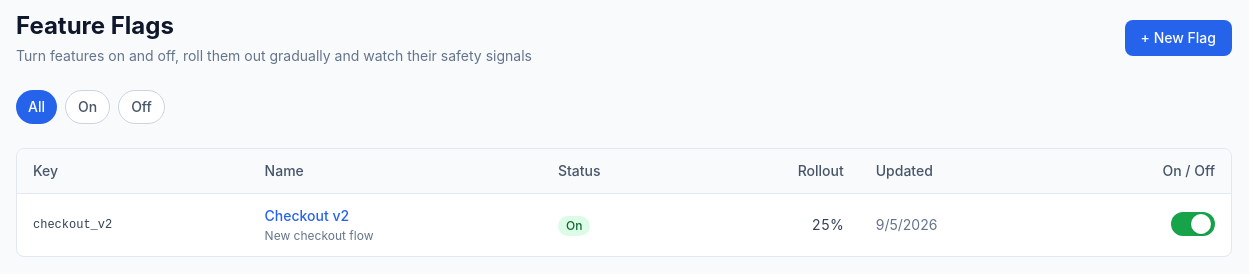
Test case: FeatureFlagsPage › turns a flag off via POST /disable
Expected: the element with test id "flags-table" is shown, [16,148,1232,257]
Click the switch with test id "flag-toggle-checkout_v2": (1193, 224) [1171,212,1215,236]
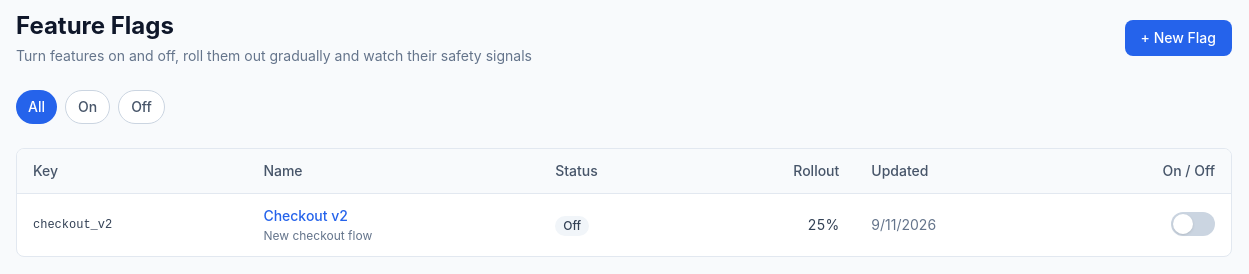
Result: the text with test id "flag-status-pill" reads "Off" at [563,218,581,232]
